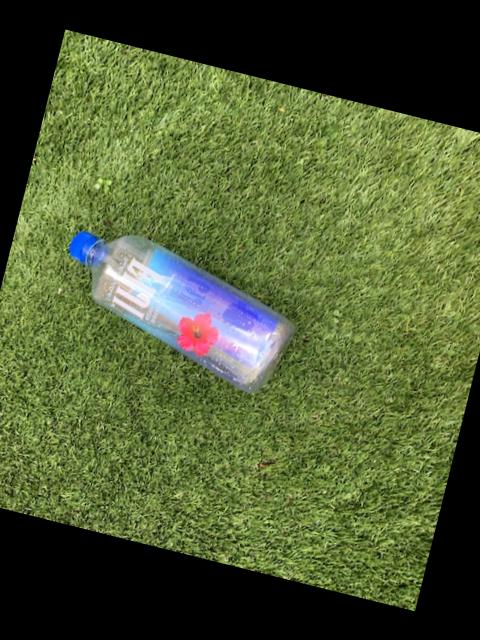plastic: (70, 233, 294, 393)
